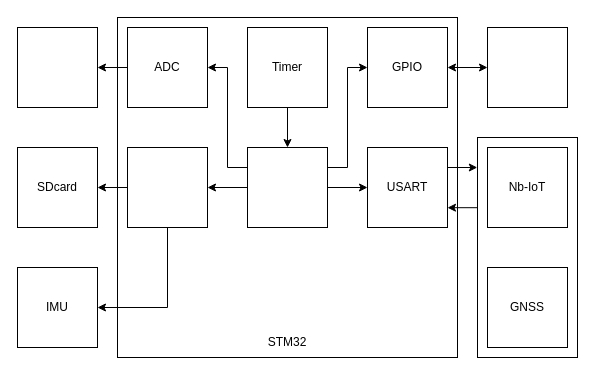
Some shapes in this 595 by 375 pixel diagram are drawn without their labels. Each missing label, with the box of its shape:
Batteries: (16, 26, 98, 108)
CPU: (246, 146, 328, 228)
SPI: (126, 146, 208, 228)
Temperature Sensor: (486, 26, 568, 108)
